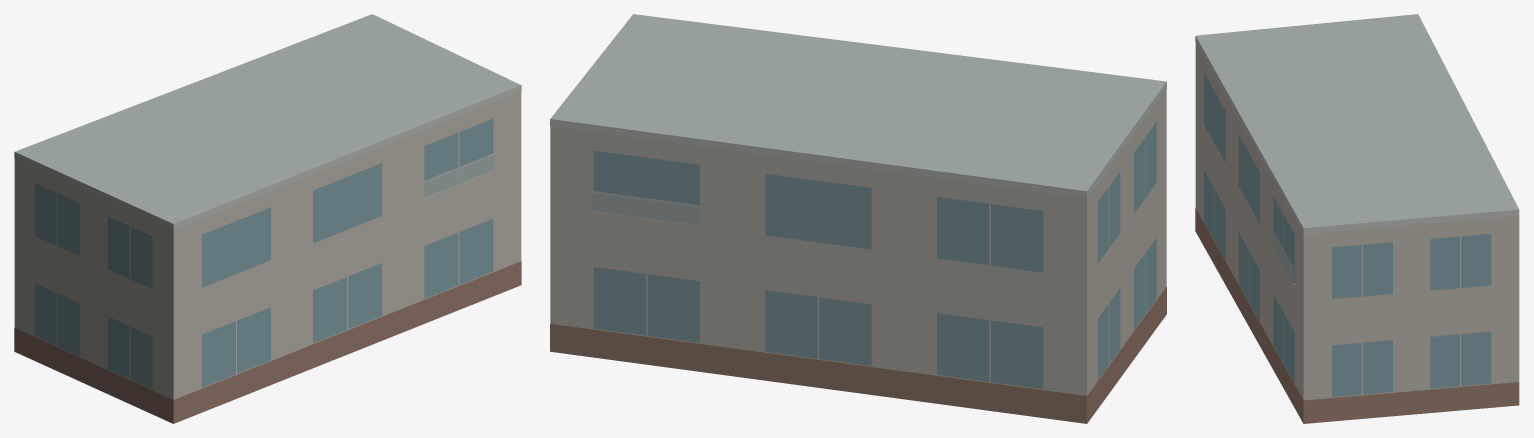
The model's file is survey-upis-32616223.glb.
3 renders of one model, left to right at view 1: azimuth 30°, elevation 25°; view 2: azimuth 150°, elevation 25°; view 3: azimuth 270°, elevation 25°, orthographic. The views are drawn at different scales.
Parts seen in each view (by area): view 1: survey-upis-32616223.tmp; view 2: survey-upis-32616223.tmp; view 3: survey-upis-32616223.tmp.
Boxes of the visible parts, bbox=[...] form: survey-upis-32616223.tmp: bbox=[14, 14, 521, 423]; survey-upis-32616223.tmp: bbox=[550, 14, 1166, 423]; survey-upis-32616223.tmp: bbox=[1195, 14, 1519, 423].
Size of the model in its own units: 18.32 by 7.8 by 11.71.
